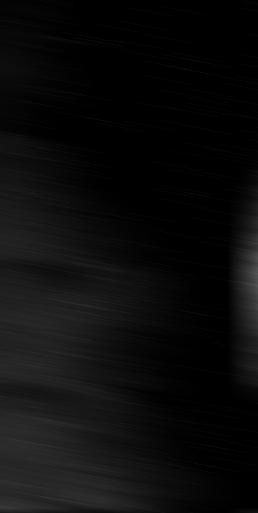Airbag: (0, 0, 258, 513), (246, 0, 258, 496), (0, 511, 258, 513)
